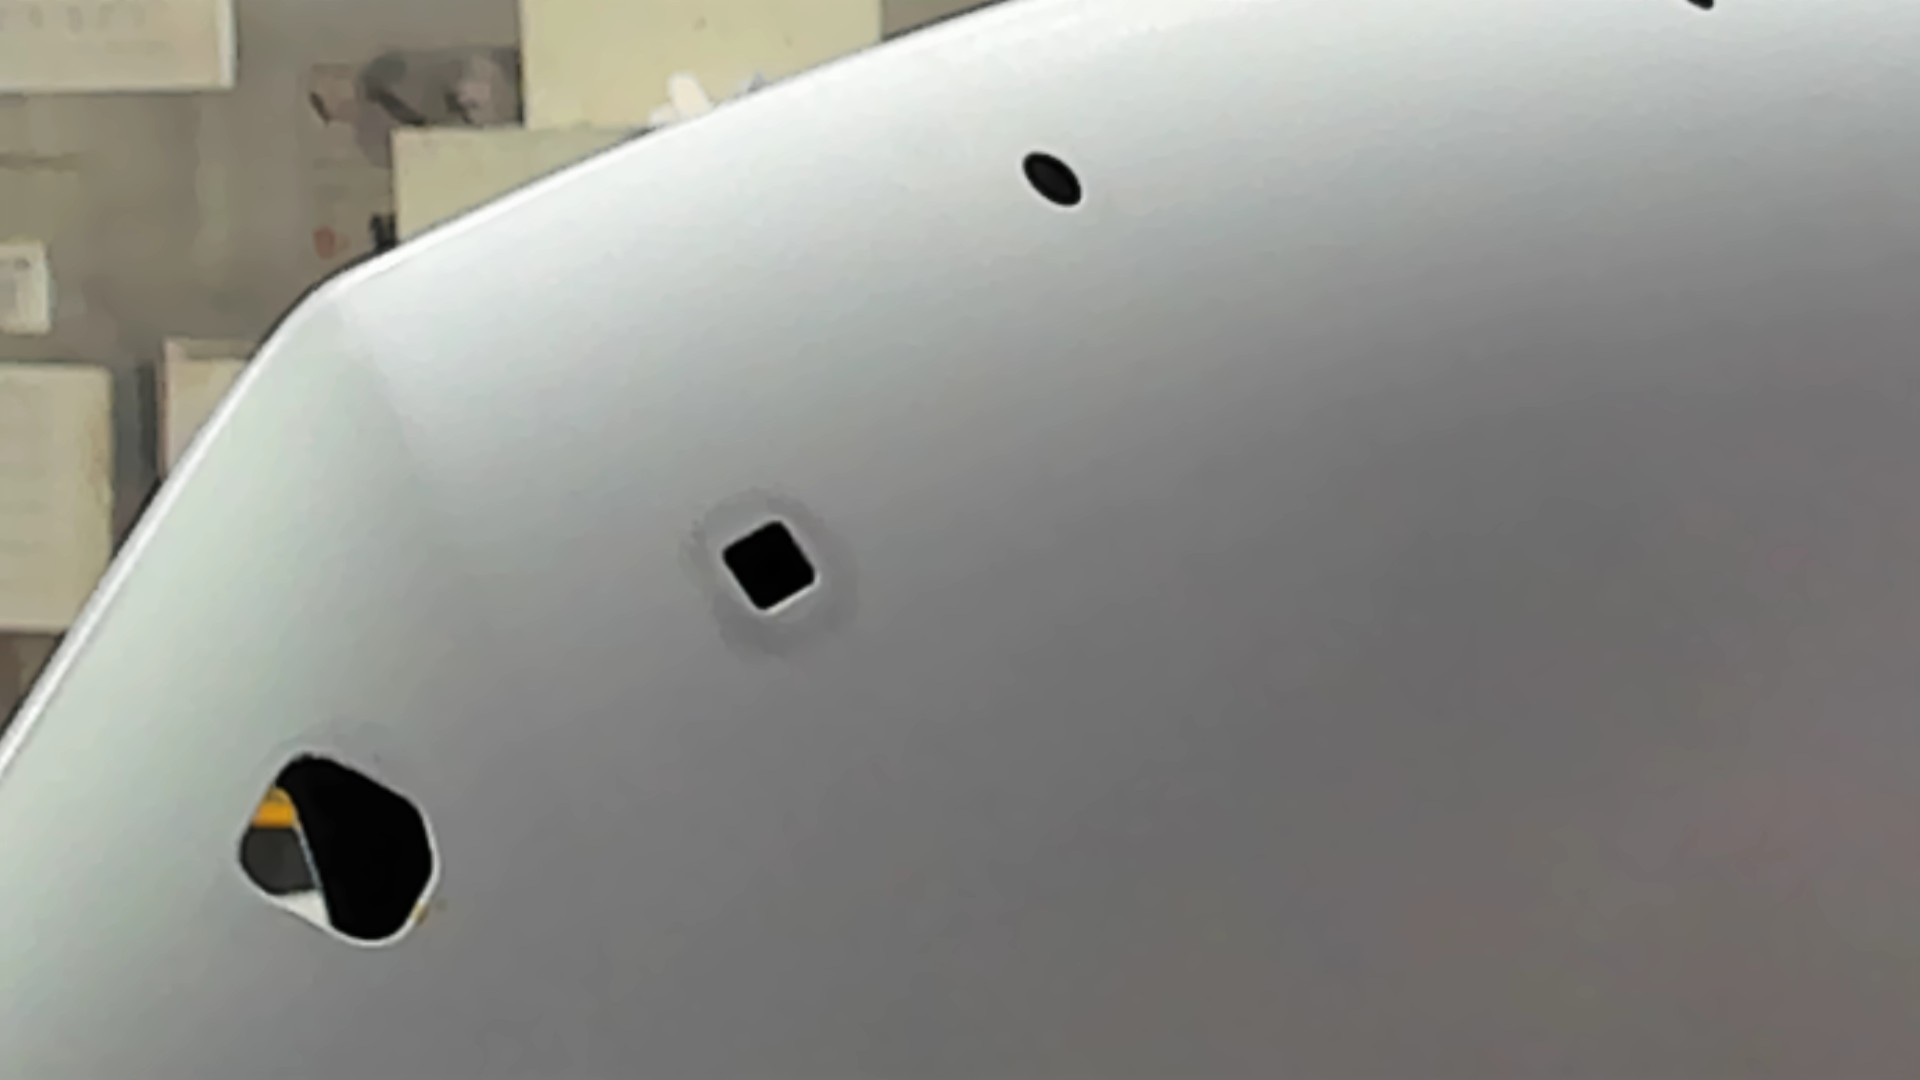chico: (1022, 146, 1087, 208), (1687, 1, 1718, 15)
grande: (233, 752, 440, 951)
mediano: (719, 518, 823, 616)
